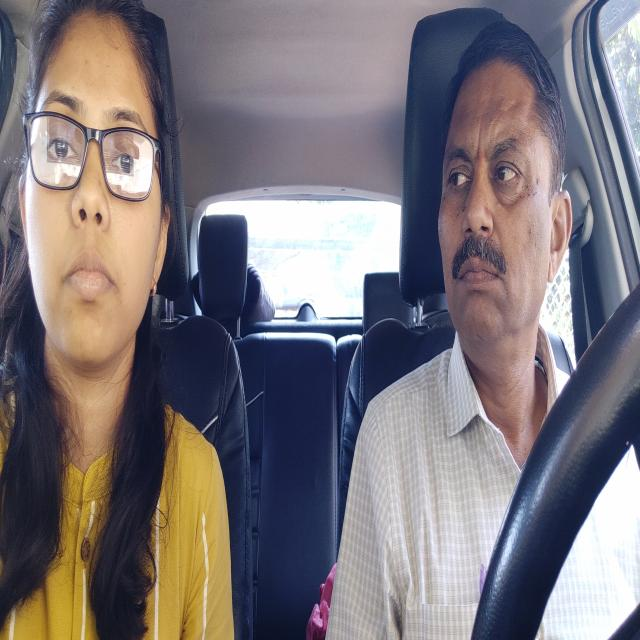LeftRight: (428, 20, 584, 409)
person: (3, 0, 178, 420)
